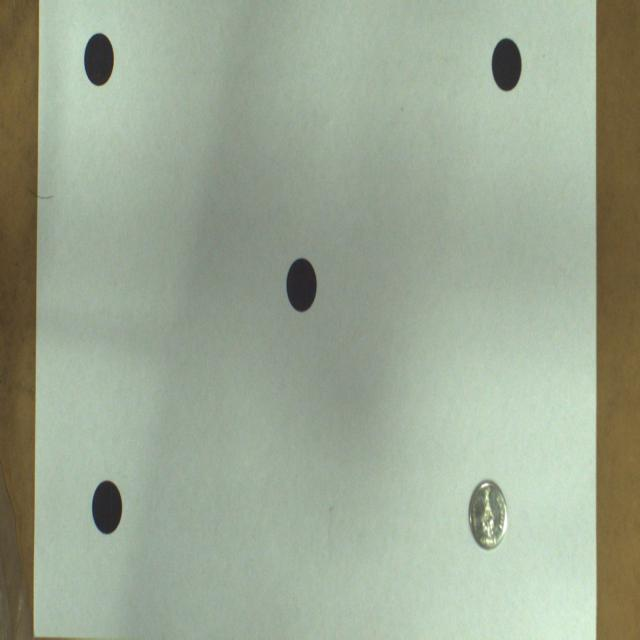space: (84, 33, 114, 87), (92, 480, 122, 533), (286, 258, 316, 311), (491, 38, 521, 91)
tail1bath: (469, 480, 508, 549)
